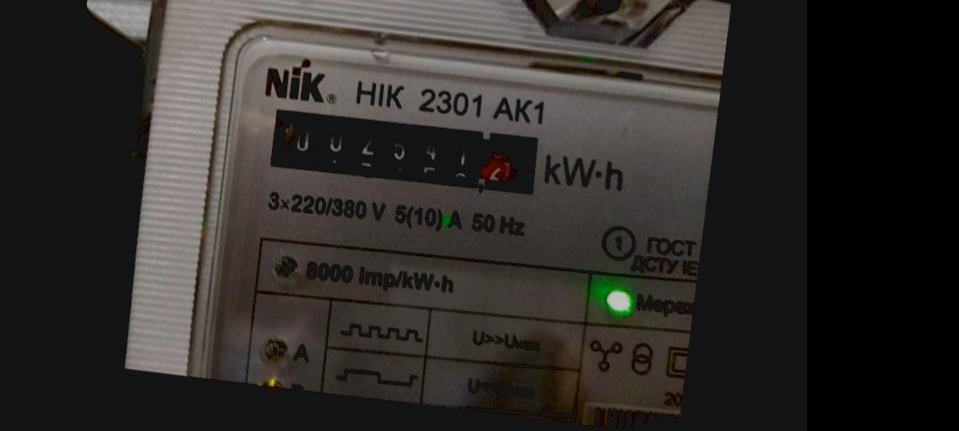0: (325, 121, 348, 156), (294, 123, 315, 154)
1: (453, 133, 473, 168)
2: (356, 123, 381, 160)
4: (422, 131, 443, 163)
5: (390, 130, 410, 163)
6: (486, 161, 505, 184)
screen: (254, 89, 563, 216)
